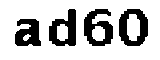0: (118, 8, 149, 48)
6: (80, 6, 115, 51)
a: (12, 16, 45, 49)
d: (45, 8, 80, 50)
